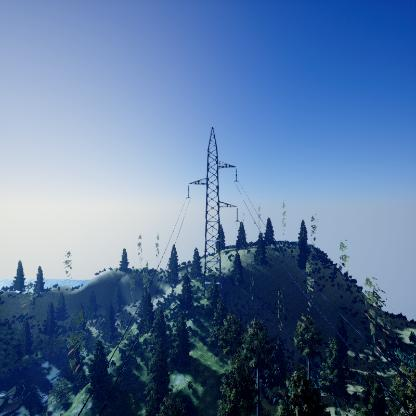tower: (184, 123, 241, 317)
